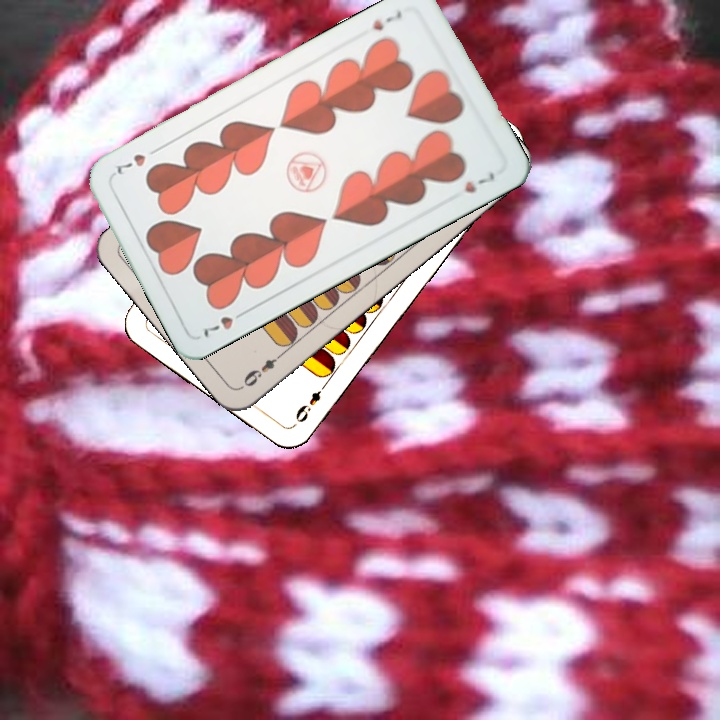E9: (237, 348, 287, 391), (291, 378, 330, 426)
H7: (197, 305, 251, 341), (369, 6, 405, 34)
